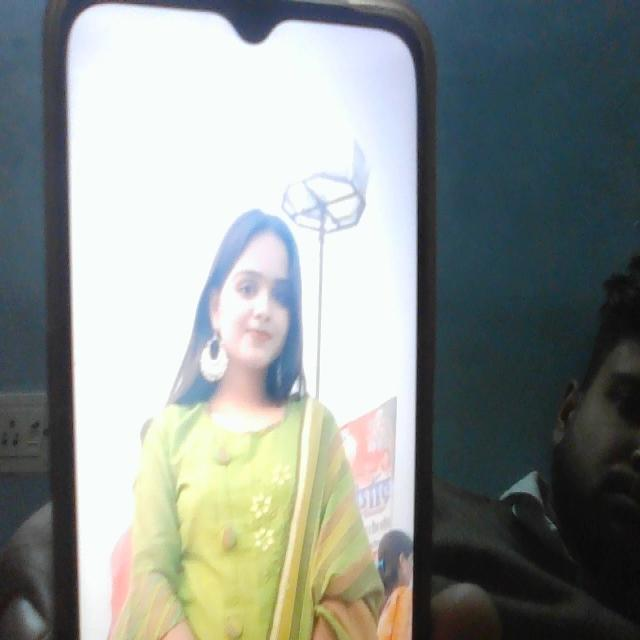fake: (205, 194, 309, 390)
